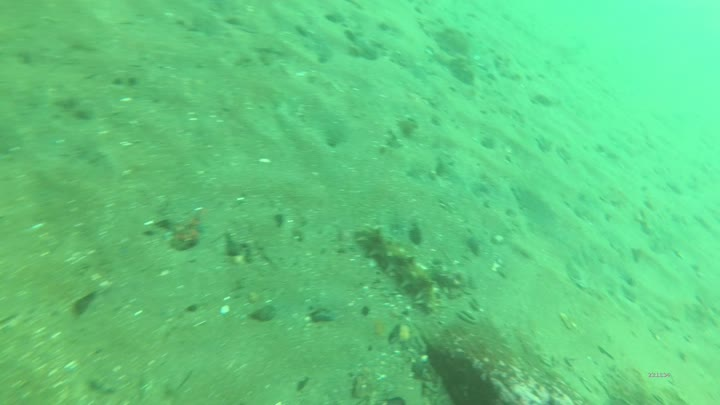holothurian: (355, 226, 440, 313)
